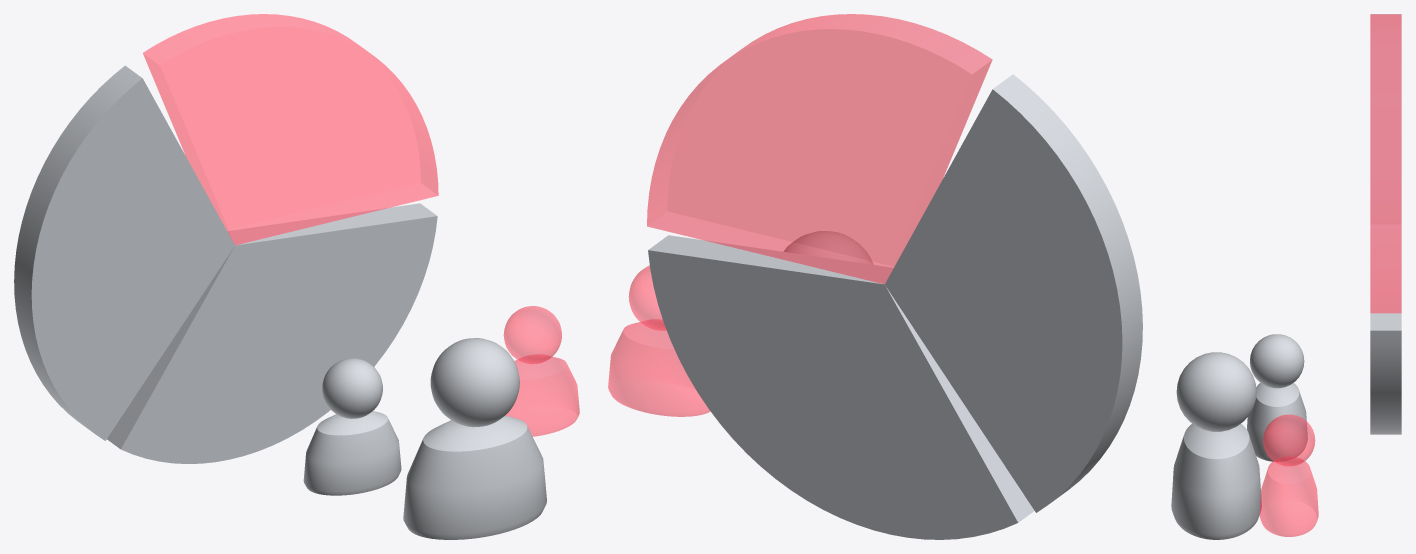
Rendered from 43-segmentation.glb.
The picture shows the model from 3 angles, left to right: view 1: azimuth 30°, elevation 25°; view 2: azimuth 150°, elevation 25°; view 3: azimuth 270°, elevation 25°; orthographic projection. The views are drawn at different scales.
Parts seen in each view (by area): view 1: BC satin silver metal, BC ruby optical glass; view 2: BC satin silver metal, BC ruby optical glass; view 3: BC satin silver metal, BC ruby optical glass.
Boxes of the visible parts, <box> form: BC satin silver metal: <box>14,65,546,539</box>; BC ruby optical glass: <box>143,14,579,436</box>; BC satin silver metal: <box>648,74,1142,539</box>; BC ruby optical glass: <box>608,14,992,416</box>; BC satin silver metal: <box>1171,14,1401,539</box>; BC ruby optical glass: <box>1259,14,1401,536</box>.
Size of the model in its own units: 2.14 by 1.87 by 0.9522.
